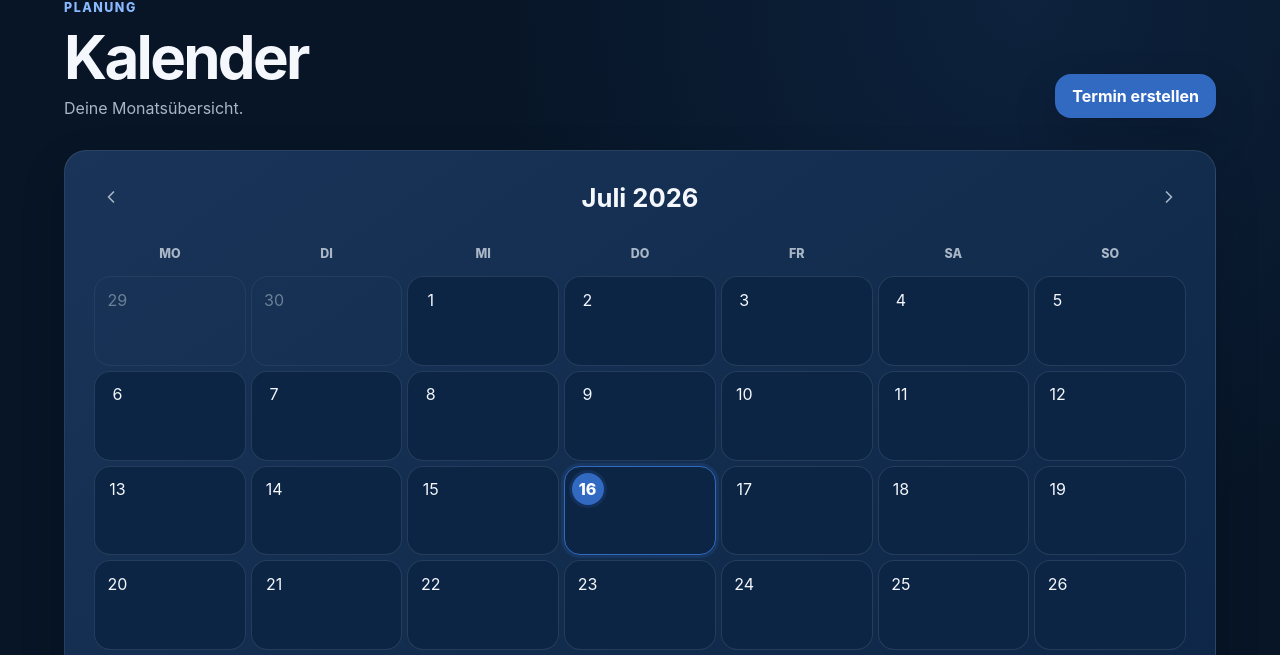
Test case: CalendarPage › creates an event on the selected day and renders it only in that cell
The width and height of the screenshot is (1280, 655).
Click the button "20".
click(170, 605)  # box [94,560,246,650]
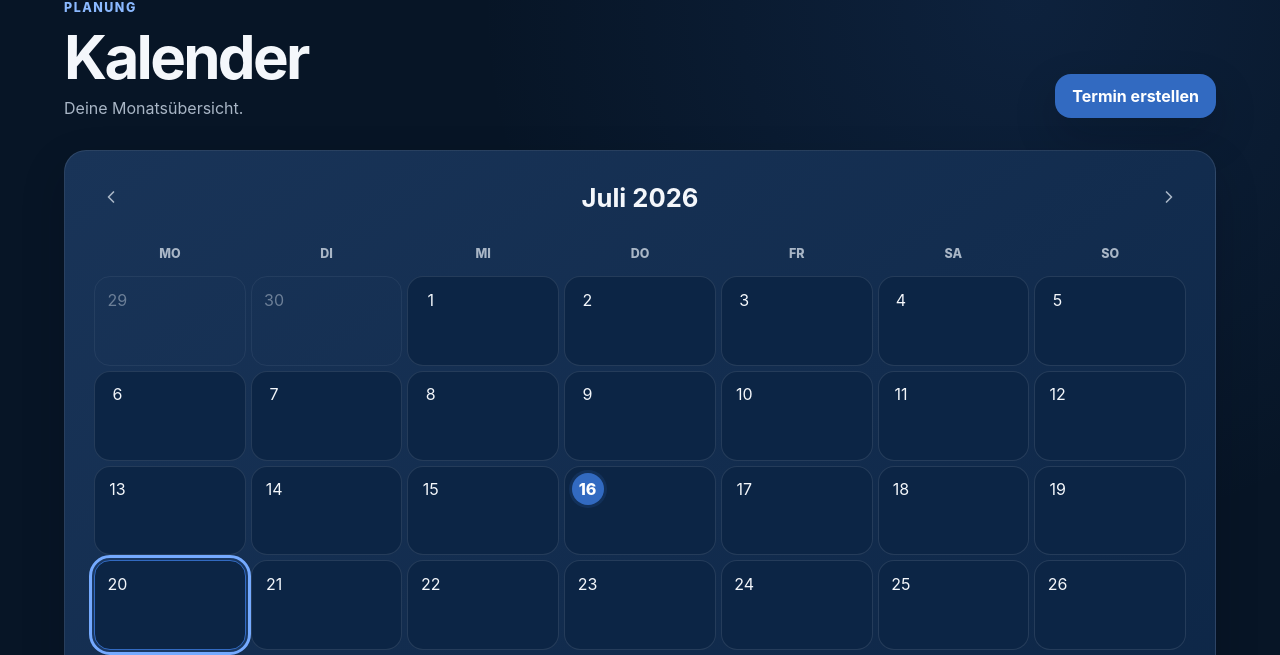
Click the button "Termin erstellen".
click(1136, 96)  # box [1055,74,1216,118]
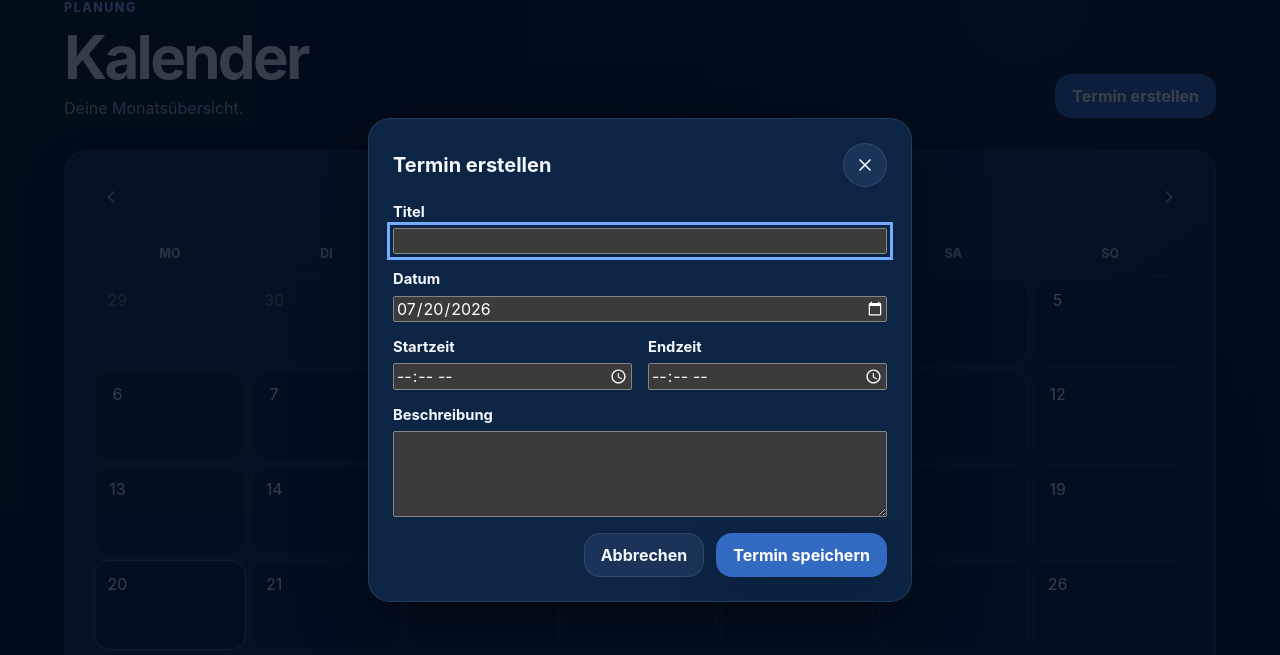
Type "Arzt" into the field labelled "Titel".
click(640, 241); type("Arzt")  # box [393,228,887,254]
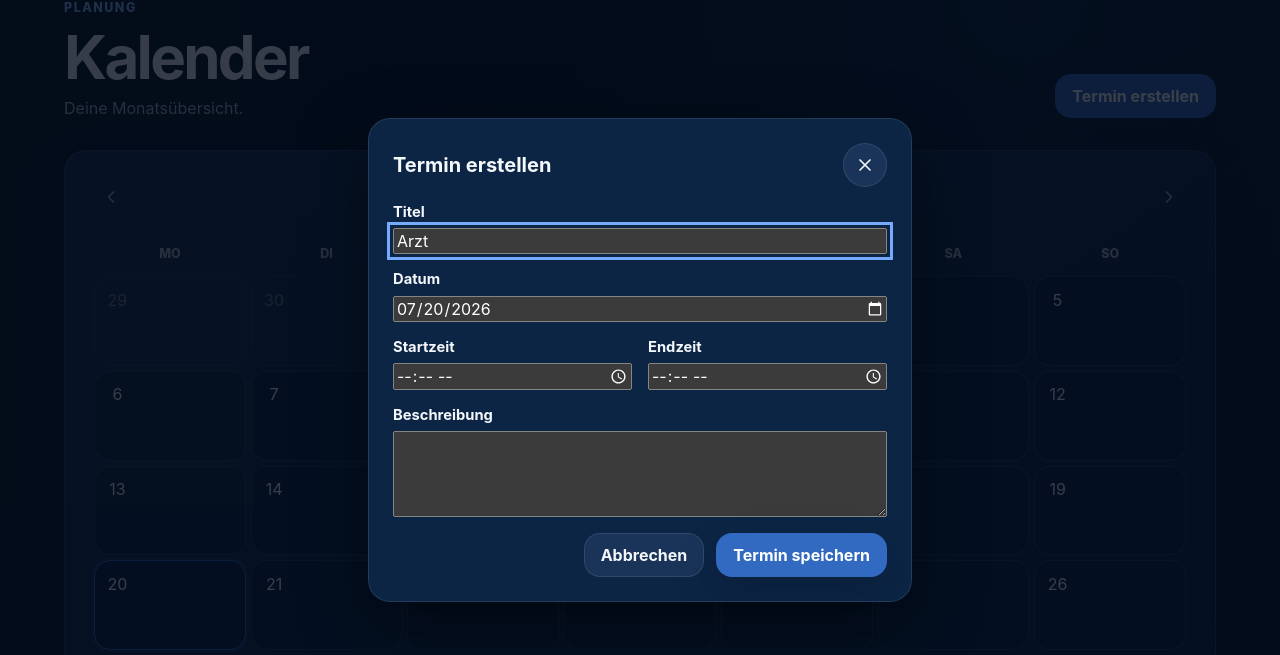
Click the button "Termin speichern".
click(802, 555)  # box [716,533,887,577]
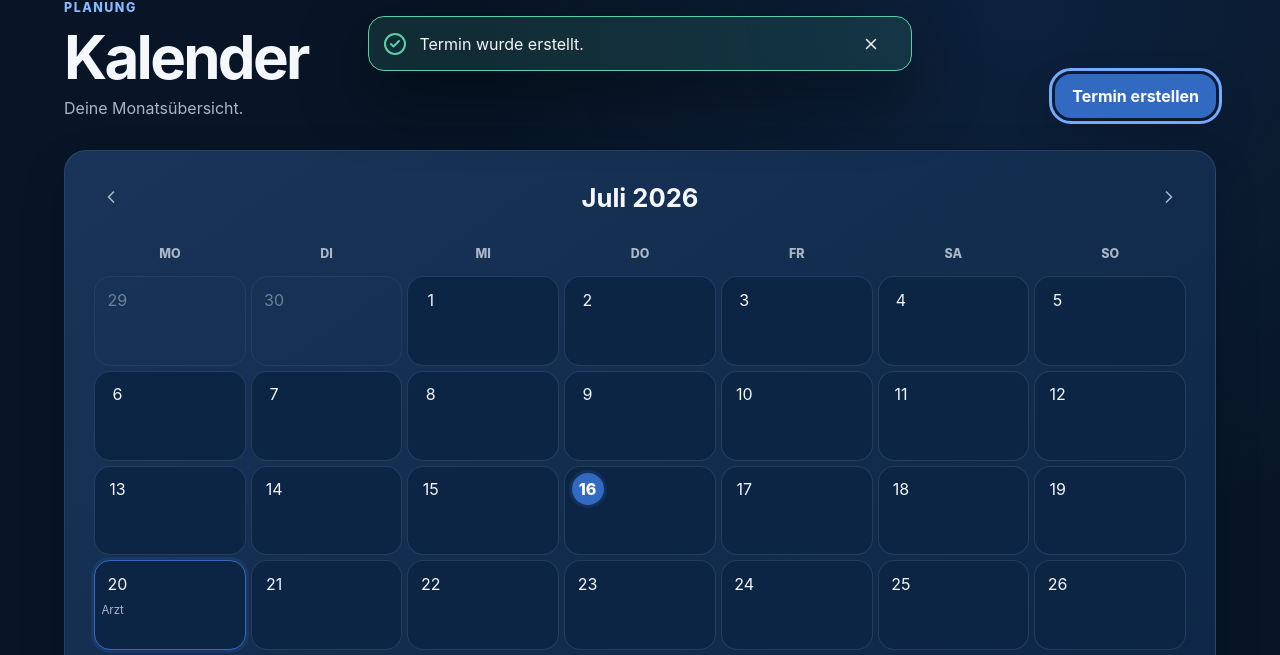
Result: the message named "Erfolg: Termin wurde erstellt." is shown at [368,16,912,71]
